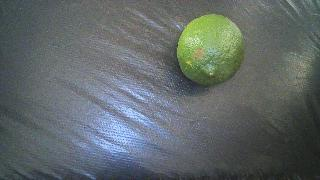DESECHO: (177, 14, 245, 85)
